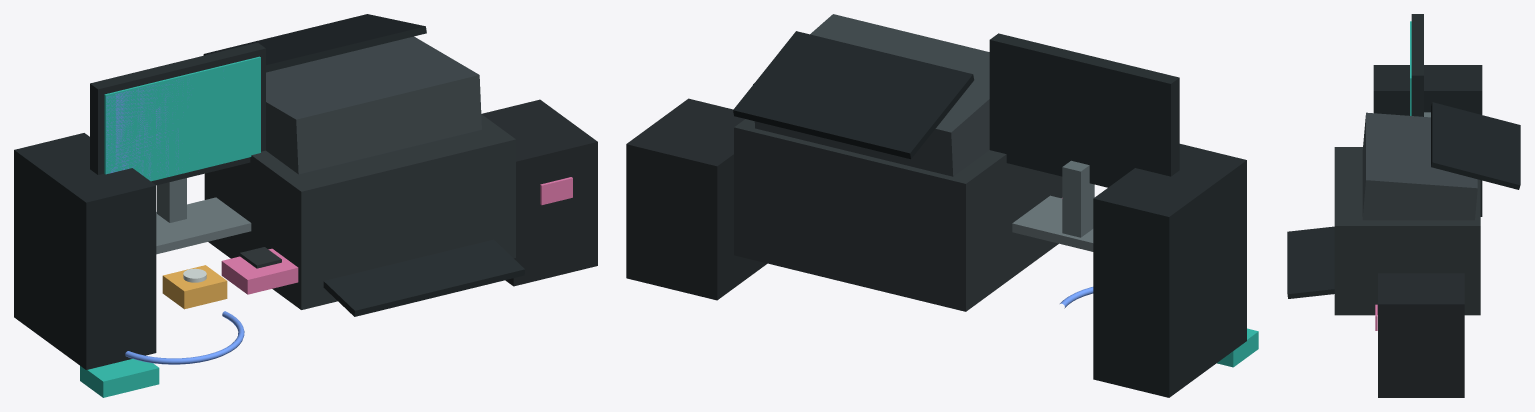
Rendered from orthographic-pilot.glb.
3 renders of one model, left to right at view 1: azimuth 30°, elevation 25°; view 2: azimuth 150°, elevation 25°; view 3: azimuth 270°, elevation 25°, orthographic. The views are drawn at different scales.
Parts seen in each view (by area): view 1: ICC_Canon_DR_G2140_Base, ICC_Dell_Workstation_Tower, ICC_Canon_DR_G2140_Upper, ICC_Workstation_Monitor_Display, ICC_APC_SMC1500, ICC_Canon_Output_Tray, ICC_Canon_Input_Tray, ICC_Workstation_Monitor_Housing, ICC_Monitor_Base, ICC_Isolated_Network_Interface, ICC_Compact_Flash_Reader, ICC_Application_Surface (+5 smaller); view 2: ICC_Canon_DR_G2140_Base, ICC_Dell_Workstation_Tower, ICC_Workstation_Monitor_Housing, ICC_APC_SMC1500, ICC_Canon_Input_Tray, ICC_Canon_DR_G2140_Upper, ICC_Monitor_Stand, ICC_Monitor_Base, ICC_Isolated_Network_Interface; view 3: ICC_Canon_DR_G2140_Base, ICC_APC_SMC1500, ICC_Canon_DR_G2140_Upper, ICC_Canon_Input_Tray, ICC_Dell_Workstation_Tower, ICC_Canon_Output_Tray, ICC_Workstation_Monitor_Housing.
Part boxes in pixels (<box>): ICC_Canon_DR_G2140_Base: <box>204,114,515,309</box>; ICC_Dell_Workstation_Tower: <box>14,133,156,369</box>; ICC_Canon_DR_G2140_Upper: <box>266,36,481,174</box>; ICC_Workstation_Monitor_Display: <box>104,56,260,181</box>; ICC_APC_SMC1500: <box>482,99,597,286</box>; ICC_Canon_Output_Tray: <box>323,239,524,316</box>; ICC_Canon_Input_Tray: <box>203,14,426,72</box>; ICC_Workstation_Monitor_Housing: <box>90,42,265,185</box>; ICC_Monitor_Base: <box>156,197,251,254</box>; ICC_Isolated_Network_Interface: <box>80,359,159,397</box>; ICC_Compact_Flash_Reader: <box>221,248,298,294</box>; ICC_Application_Surface: <box>106,78,189,179</box>; ICC_Canon_DR_G2140_Base: <box>734,119,1062,311</box>; ICC_Dell_Workstation_Tower: <box>1093,144,1246,397</box>; ICC_Workstation_Monitor_Housing: <box>989,33,1179,187</box>; ICC_APC_SMC1500: <box>626,98,767,300</box>; ICC_Canon_Input_Tray: <box>733,31,974,159</box>; ICC_Canon_DR_G2140_Upper: <box>753,14,989,176</box>; ICC_Monitor_Stand: <box>1062,160,1094,237</box>; ICC_Monitor_Base: <box>1012,195,1093,251</box>; ICC_Isolated_Network_Interface: <box>1217,328,1258,367</box>; ICC_Canon_DR_G2140_Base: <box>1334,147,1480,315</box>; ICC_APC_SMC1500: <box>1378,273,1464,397</box>; ICC_Canon_DR_G2140_Upper: <box>1362,112,1477,220</box>; ICC_Canon_Input_Tray: <box>1431,102,1520,189</box>; ICC_Dell_Workstation_Tower: <box>1373,65,1482,216</box>; ICC_Canon_Output_Tray: <box>1287,226,1334,298</box>; ICC_Workstation_Monitor_Housing: <box>1411,14,1423,116</box>.
Size of the model in its own units: 6.59 by 3.39 by 3.43.
